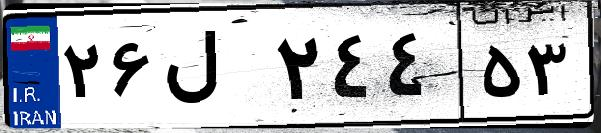2: (270, 28, 330, 110), (57, 26, 110, 100)
3: (525, 38, 570, 115)
4: (385, 28, 445, 110), (330, 28, 385, 110)
5: (475, 38, 525, 113)
6: (110, 28, 158, 98)
ل: (158, 20, 270, 120)
